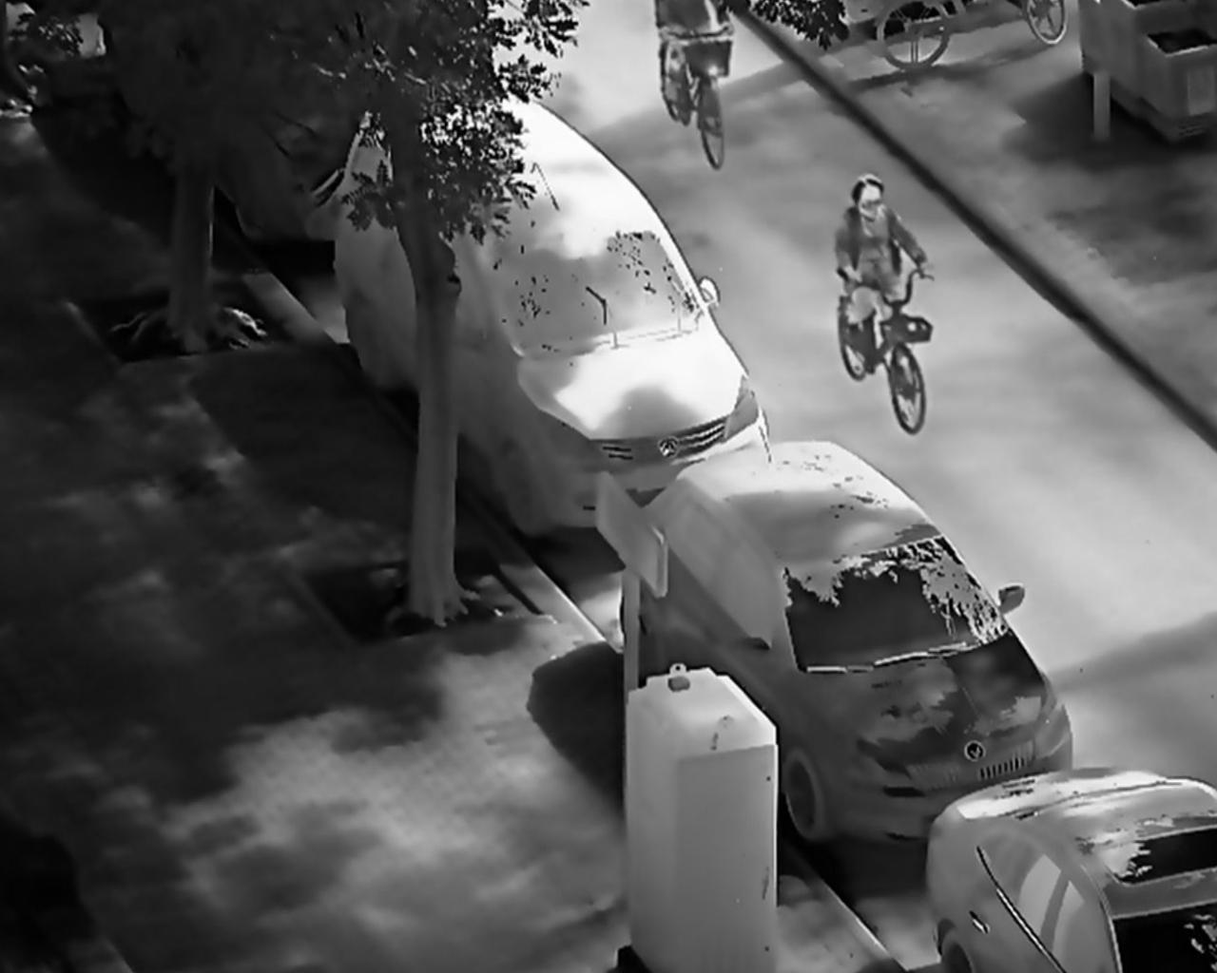person: (835, 170, 937, 381)
